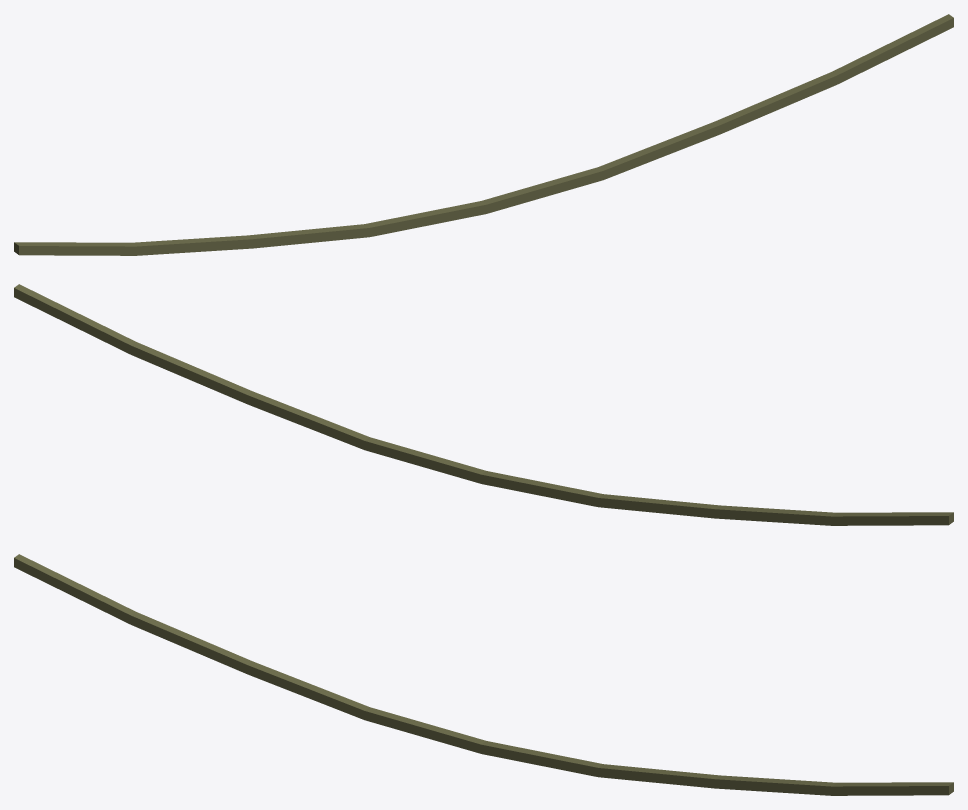
File: Rope_1 Asia.fbx
3 views of the same model, one above another, from view 1: azimuth 30°, elevation 25°; view 2: azimuth 150°, elevation 25°; view 3: azimuth 330°, elevation 25° (orthographic).
Parts seen in each view (by area): view 1: Rope_1; view 2: Rope_1; view 3: Rope_1.
Boxes of the visible parts, <box> form: Rope_1: <box>14,14,953,255</box>; Rope_1: <box>14,284,953,525</box>; Rope_1: <box>14,554,953,795</box>.
Bounding box in the file's own units: 2.5 × 0.2098 × 0.0239.
